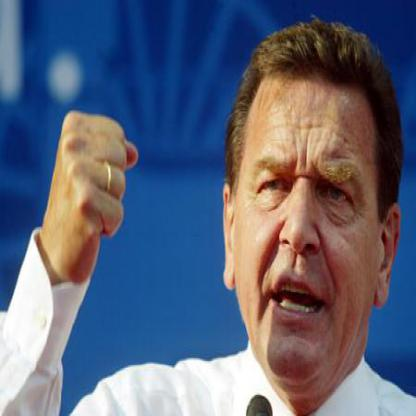face: (233, 27, 387, 392)
